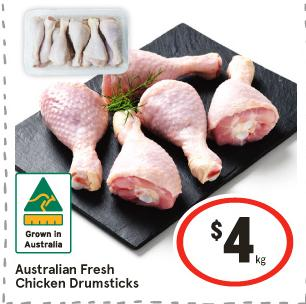description_block: (13, 259, 144, 293)
price_main: (180, 199, 286, 279)
product_image_block: (13, 18, 298, 193)
